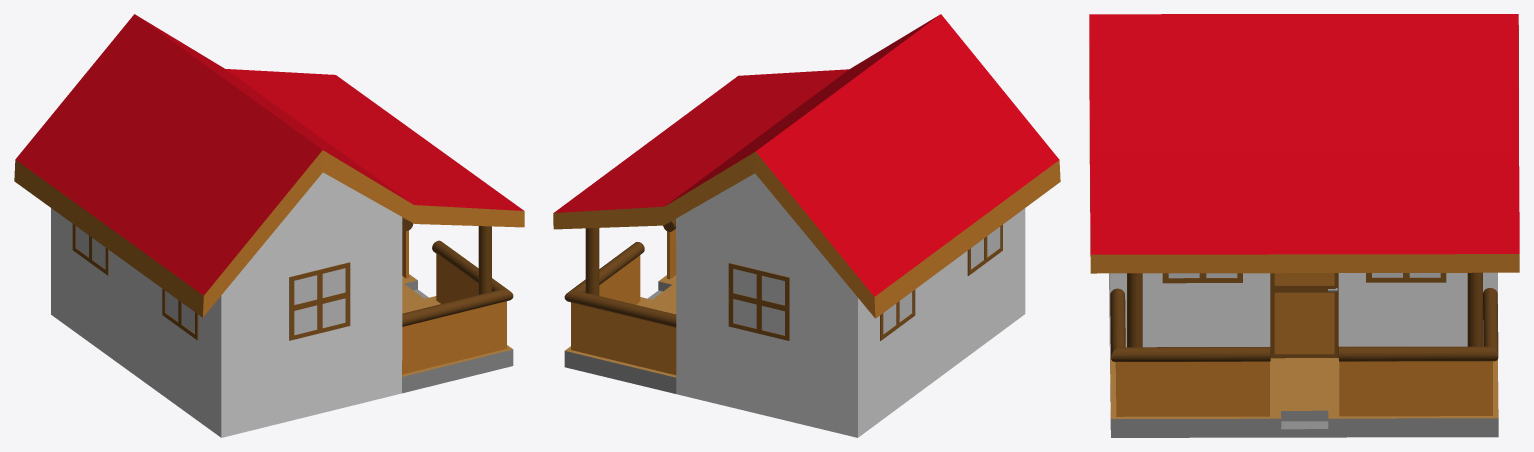
File: home.fbx
The picture shows the model from 3 angles, left to right: view 1: azimuth 30°, elevation 25°; view 2: azimuth 150°, elevation 25°; view 3: azimuth 270°, elevation 25°; orthographic projection. The views are drawn at different scales.
Visible parts, largest first — view 1: roof, wall, teras, window, teras floor, pole; view 2: roof, wall, teras, window, teras floor, pole; view 3: roof, teras, wall, teras floor, door, pole, window.
Boxes of the visible parts, x1,y1,x2,y2 form: roof: (14, 14, 524, 317); wall: (51, 172, 402, 437); teras: (402, 217, 513, 374); window: (72, 224, 350, 340); teras floor: (402, 274, 513, 393); pole: (478, 226, 491, 294); roof: (553, 14, 1060, 318); wall: (676, 173, 1025, 437); teras: (564, 219, 676, 375); window: (728, 225, 1002, 340); teras floor: (564, 275, 676, 393); pole: (585, 228, 599, 295); roof: (1089, 14, 1519, 273); teras: (1110, 288, 1498, 416); wall: (1109, 272, 1497, 373); teras floor: (1110, 356, 1498, 437); door: (1270, 273, 1338, 358); pole: (1127, 272, 1482, 347); window: (1162, 273, 1446, 283).
Size of the model in its own units: 422 by 338 by 423.
